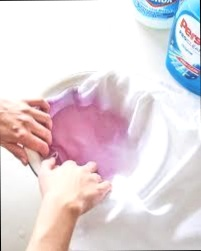wine: (49, 106, 128, 180)
